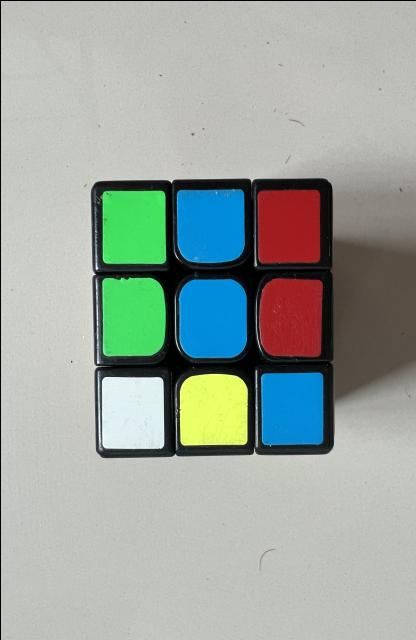Blue: (178, 279, 246, 358), (176, 189, 244, 262), (260, 371, 323, 444)
Green: (101, 276, 165, 355), (102, 190, 166, 262)
Red: (258, 278, 322, 356), (257, 189, 320, 262)
White: (101, 376, 164, 448)
Yellow: (179, 372, 247, 445)
